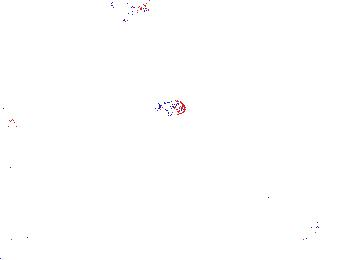X-ray fish: (157, 141, 198, 174), (306, 203, 322, 241)
red belly glassfish: (110, 2, 152, 15), (159, 99, 186, 117)
